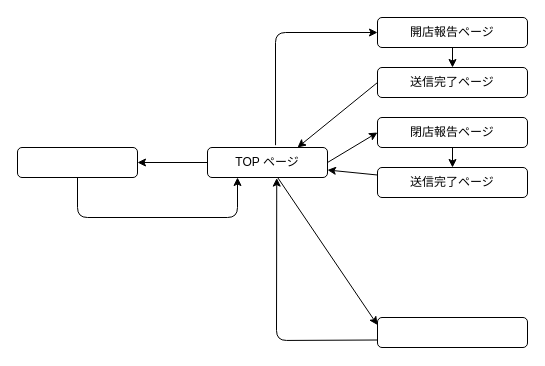
Some shapes in this 545 by 366 pixel diagram are drawn without their labels. The centre of each missing label's shape, as x and y in pixels:
ログイン・ サインインページ: pixel 77 162
報告履歴閲覧ページ: pixel 452 332
